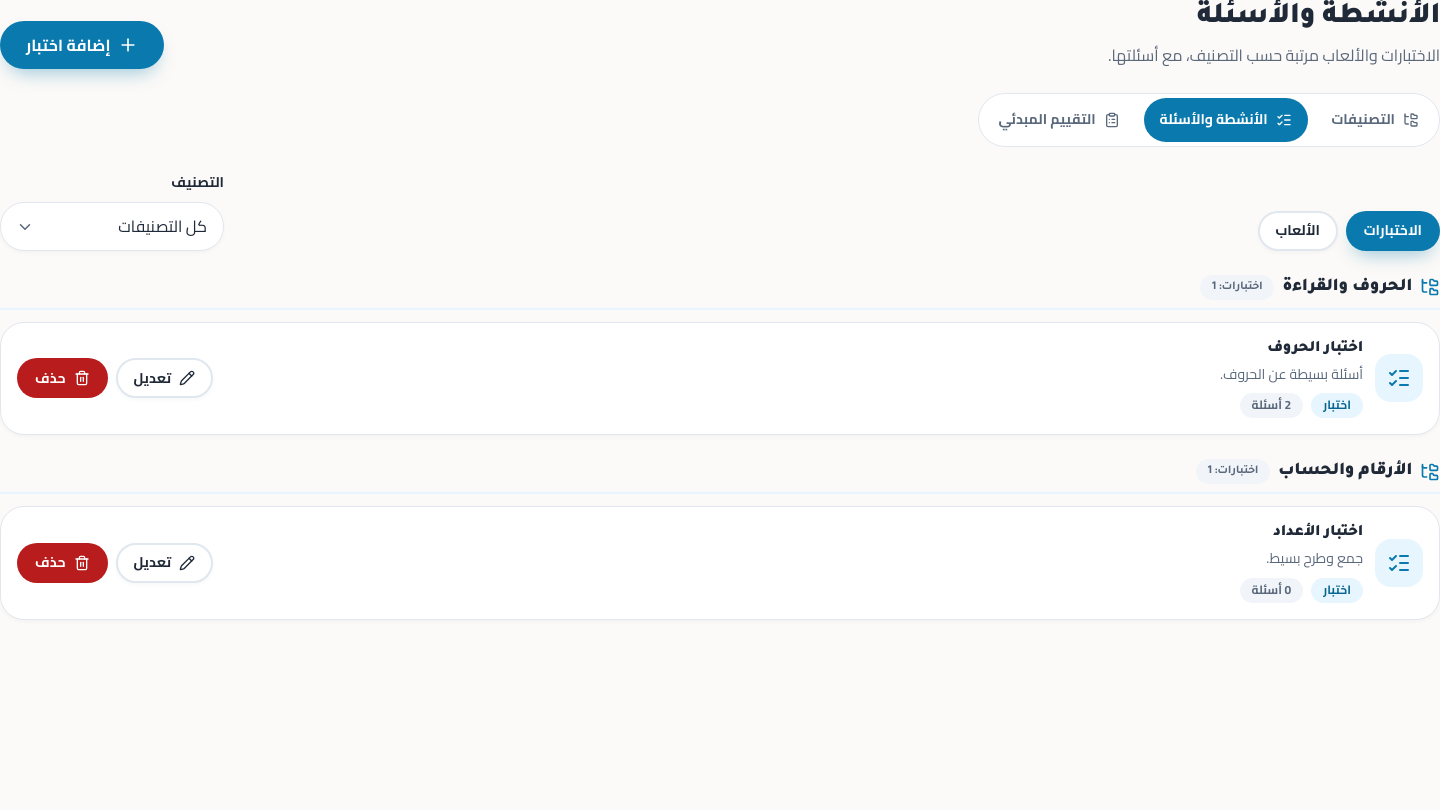
Test: ActivitiesPage › deletes an activity after confirmation
Check: the link "اختبار الأعداد" is shown, box left=1273, top=525, right=1363, bottom=541
Step 1. Click the button with aria-label "حذف النشاط اختبار الأعداد" → (62, 563), box left=17, top=543, right=108, bottom=583
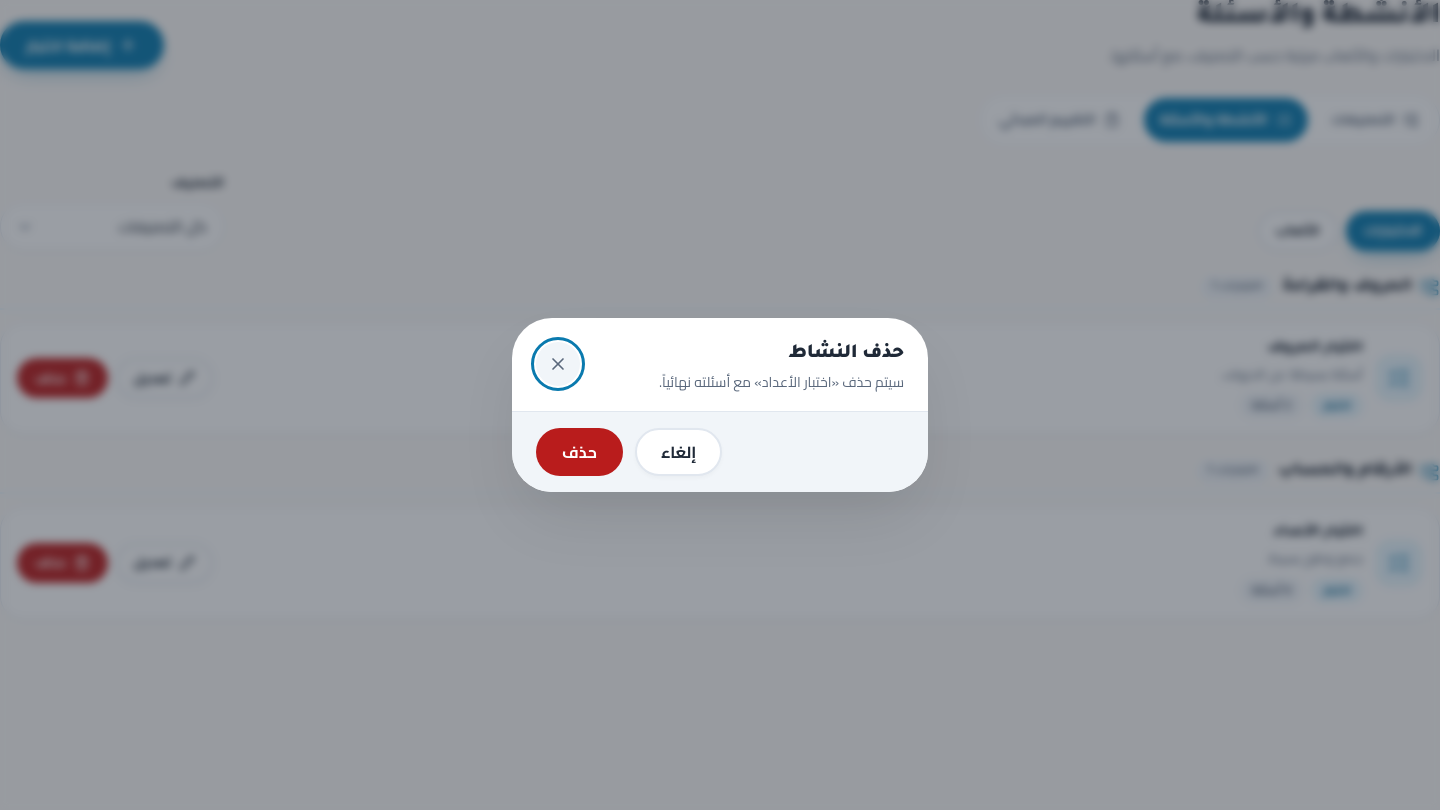
Step 2. Click the button "حذف" → (579, 452), box left=536, top=428, right=623, bottom=476
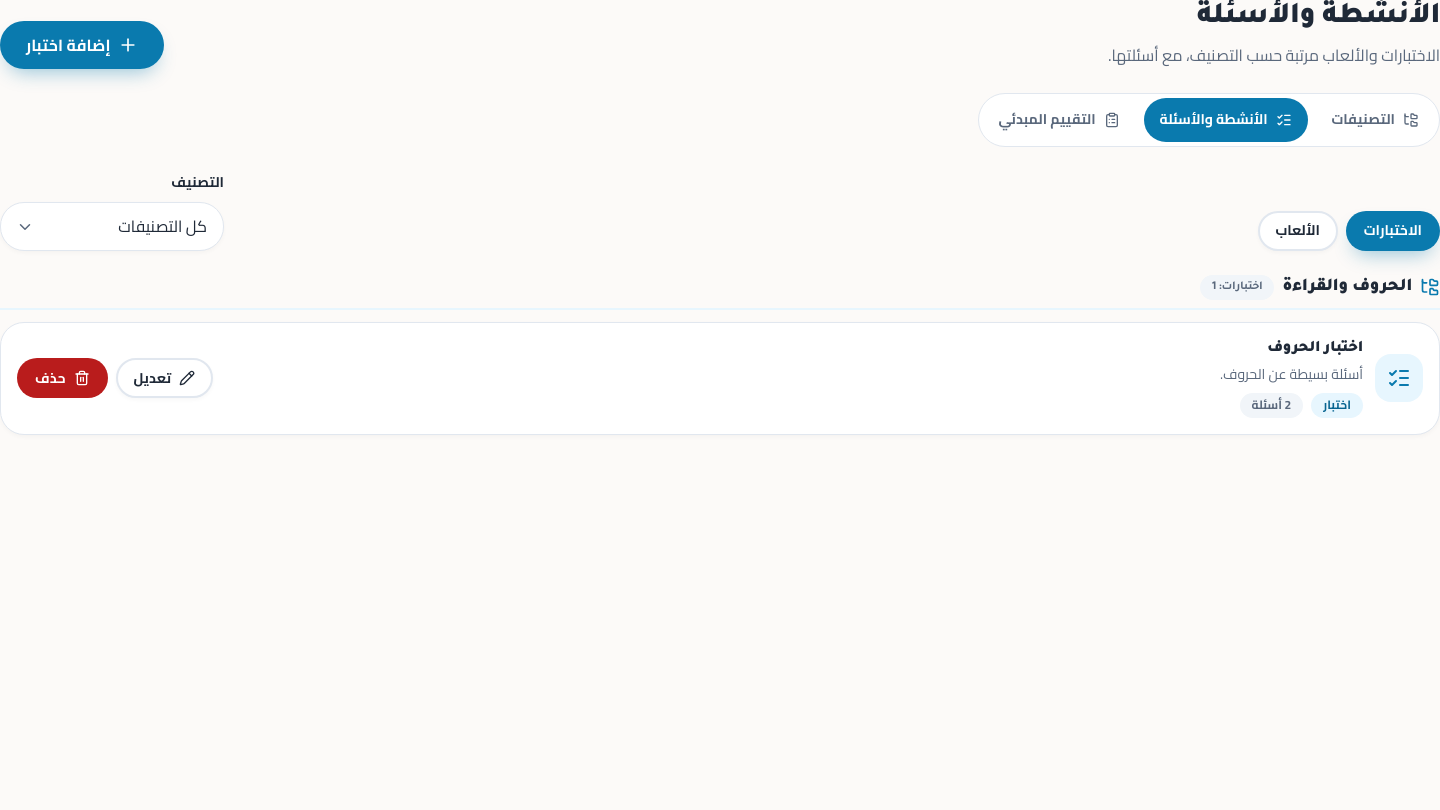
Check: the link "اختبار الحروف" is shown, box left=1267, top=341, right=1363, bottom=357
Check: the link "اختبار الأعداد" is gone
